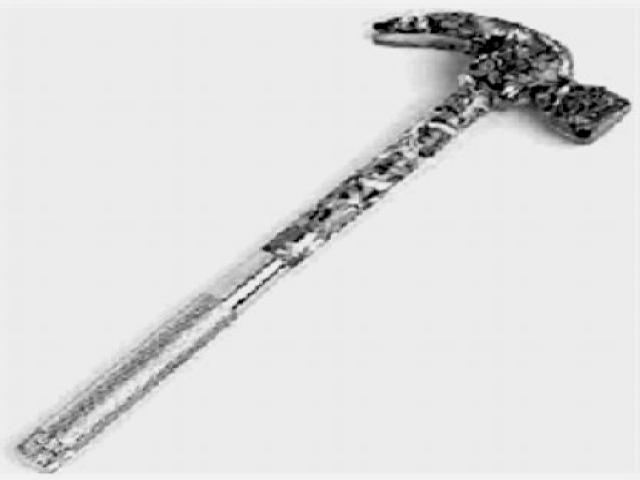Hammer: (18, 12, 630, 472)
